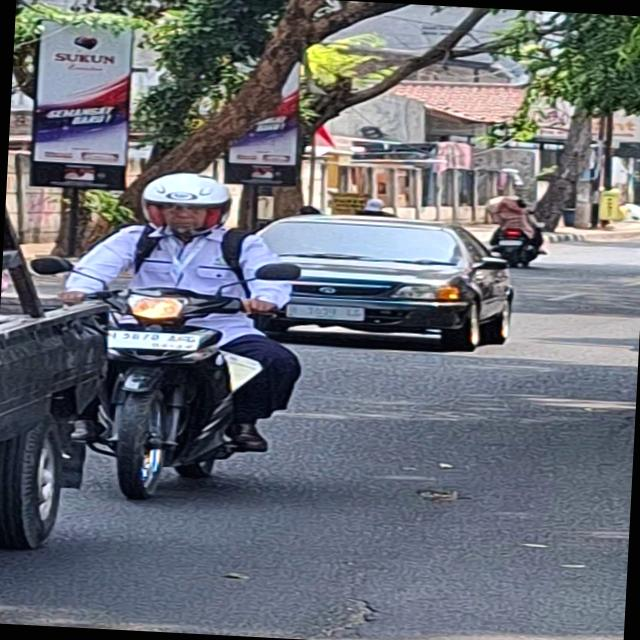WithHelmet: (52, 168, 313, 454)
